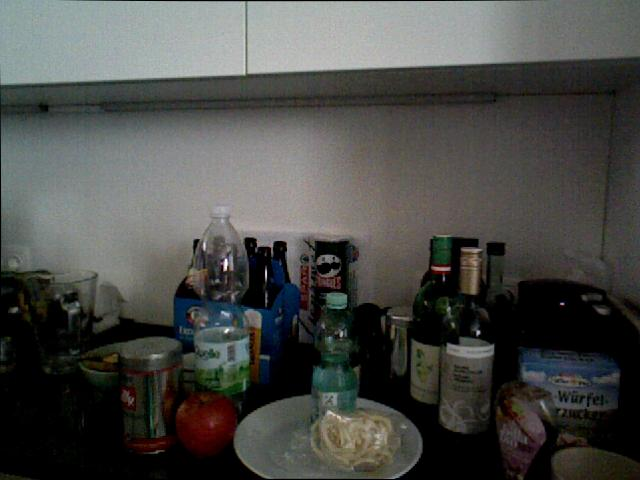bench: (192, 206, 248, 414), (437, 246, 495, 436), (408, 234, 459, 409), (315, 292, 352, 423), (485, 243, 515, 378), (173, 238, 206, 352), (255, 240, 273, 309), (241, 236, 259, 303), (271, 239, 295, 287)
bicycle: (174, 391, 238, 457)
bird: (542, 443, 640, 479), (81, 342, 141, 393)
handbag: (19, 270, 102, 373)
motorcycle: (85, 349, 119, 373)
